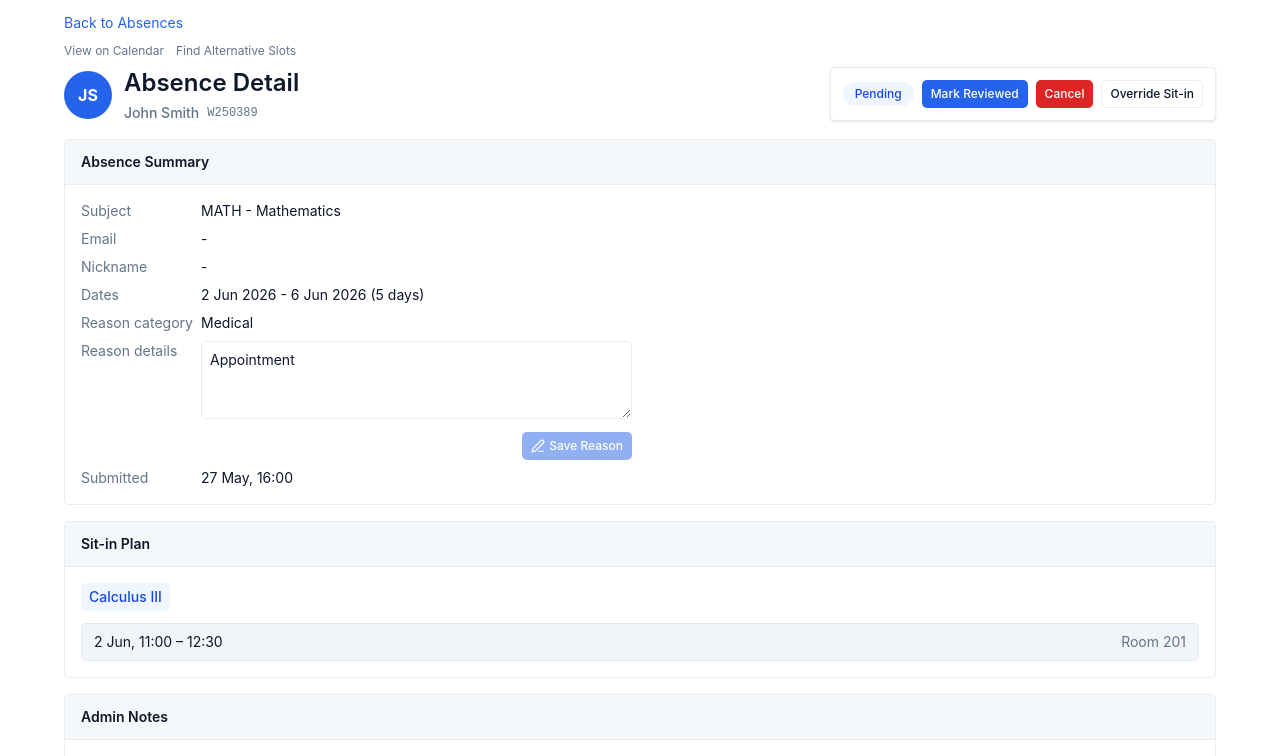
it: Absence detail › can cancel an unsaved reason edit without writing
Replace the text in the text box named "reason details" with "Temporary edit" at (416, 380), box [201,340,632,418]
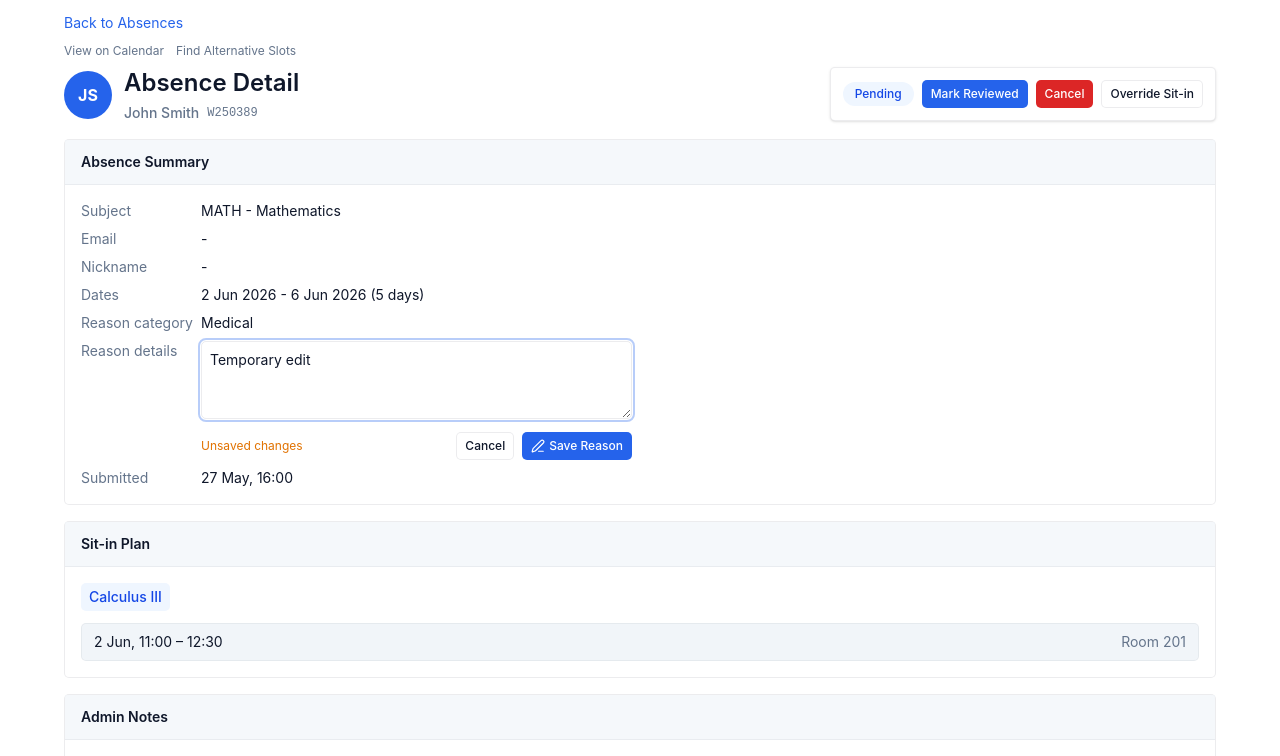
Click the button "Cancel" next to "Unsaved changes".
click(485, 446)  # box [456,432,514,460]
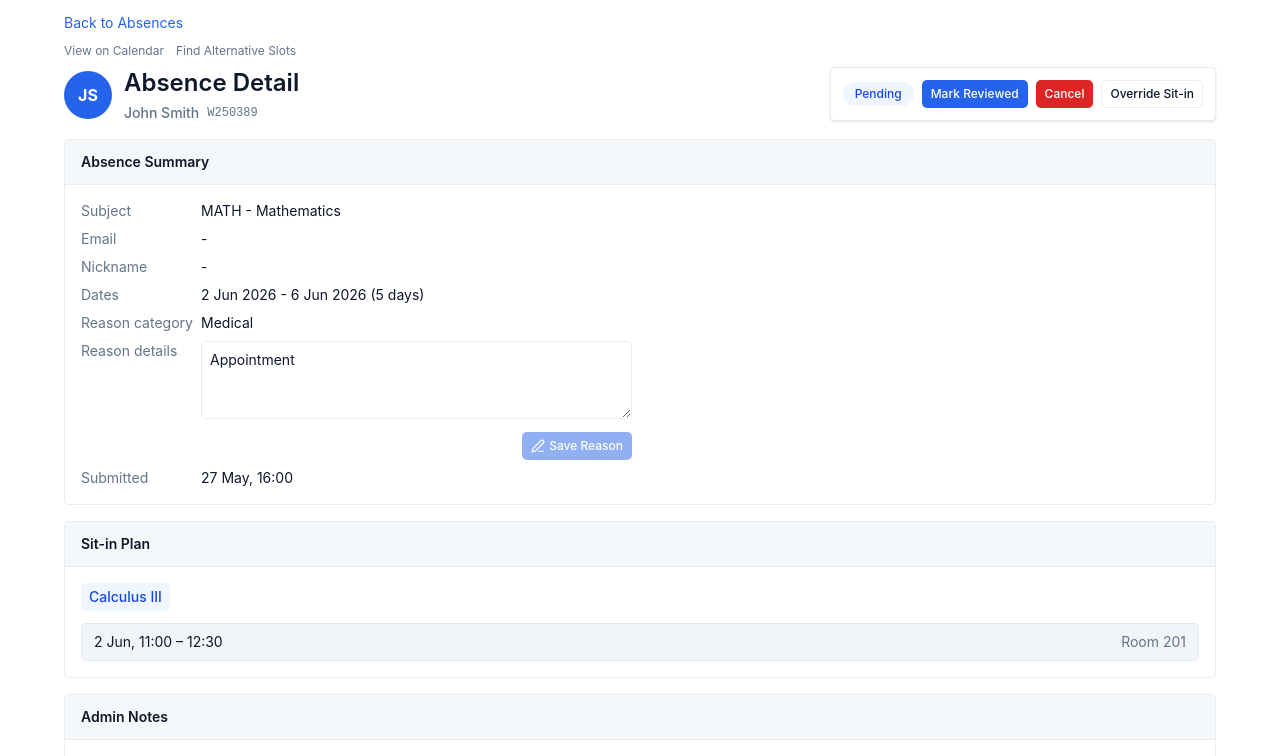
Expected: the text box named "reason details" holds "Appointment", [201,340,632,418]
